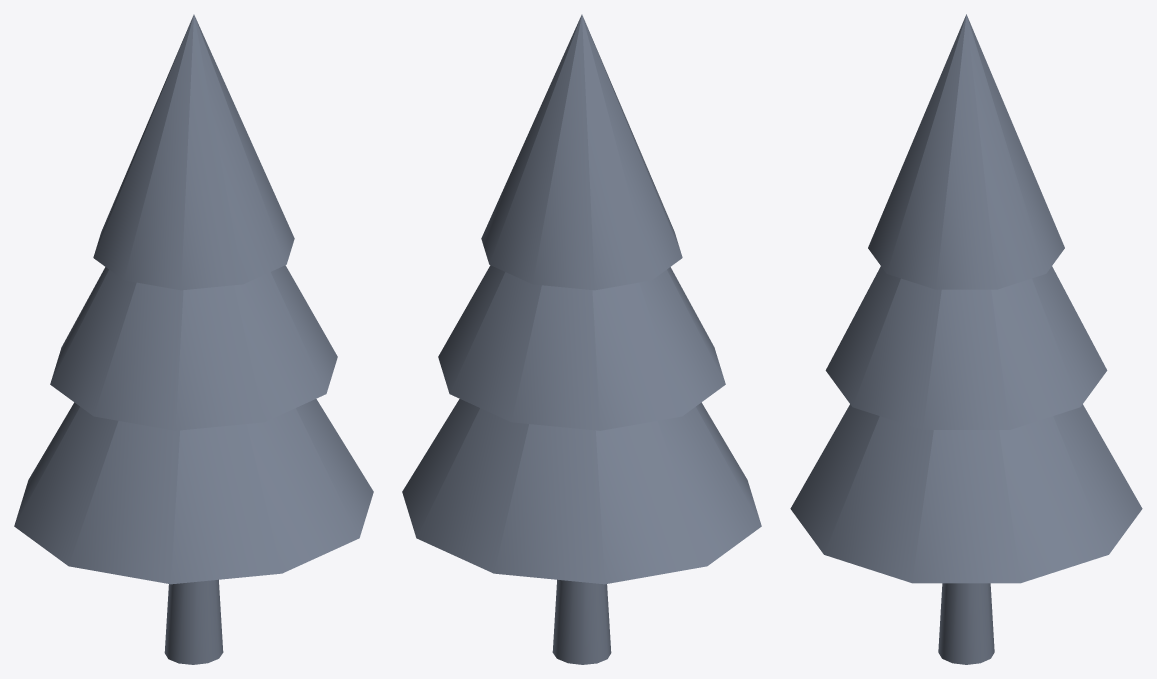
The model's file is garden-conifer-lite.glb.
3 renders of one model, left to right at view 1: azimuth 30°, elevation 25°; view 2: azimuth 150°, elevation 25°; view 3: azimuth 270°, elevation 25°, orthographic.
Parts seen in each view (by area): view 1: garden-conifer; view 2: garden-conifer; view 3: garden-conifer.
Part boxes in pixels (<box>): garden-conifer: <box>14,14,373,664</box>; garden-conifer: <box>402,14,761,664</box>; garden-conifer: <box>790,14,1142,664</box>.
Size of the model in its own units: 1.5 by 3 by 1.5.
